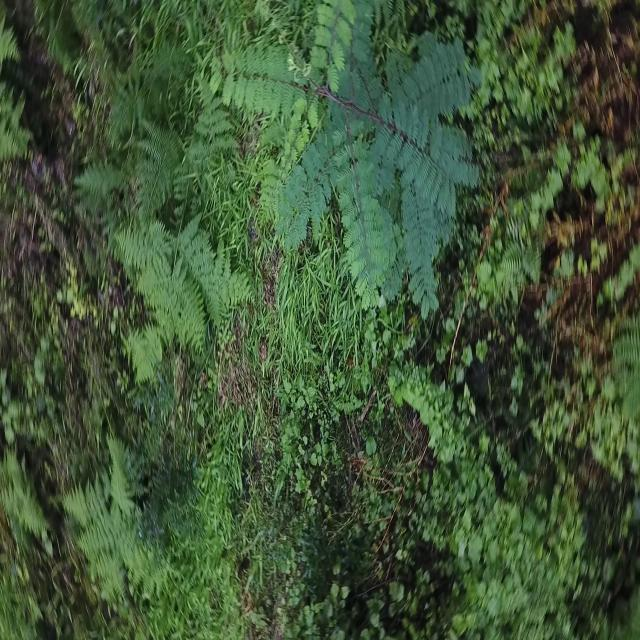Mysore-Thorn-Weed: (212, 0, 482, 324)
